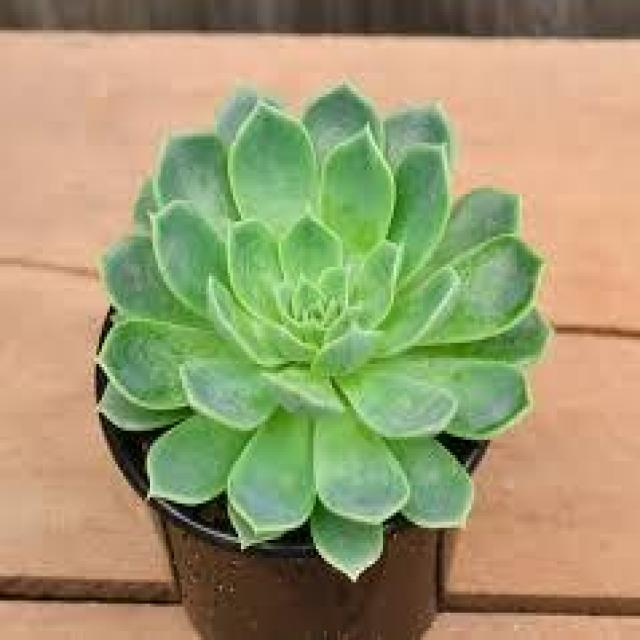organic waste: (95, 71, 548, 542)
